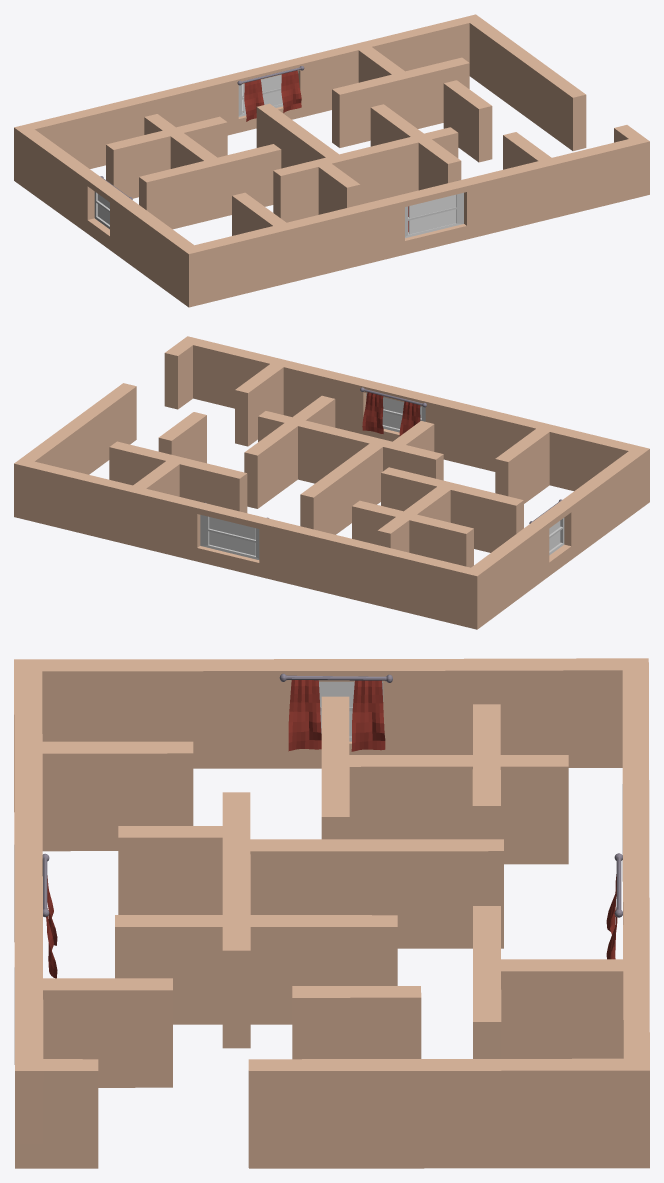
File: Level 9.fbx
The picture shows the model from 3 angles, top to bottom: view 1: azimuth 30°, elevation 25°; view 2: azimuth 150°, elevation 25°; view 3: azimuth 270°, elevation 25°; orthographic projection. The views are drawn at different scales.
Visible parts, largest first — view 1: group8_pasted__polySurface90_pasted__polySurface93, polySurface50, pasted__wind1, pasted__pasted__clowt1; view 2: group8_pasted__polySurface90_pasted__polySurface93, pasted__wind1, polySurface50, pasted__pasted__clowt1; view 3: group8_pasted__polySurface90_pasted__polySurface93, pasted__pasted__clowt1, pasted__wind1, polySurface50.
Boxes of the visible parts, x1,y1,x2,y2 form: group8_pasted__polySurface90_pasted__polySurface93: [14, 14, 649, 307]; polySurface50: [237, 66, 304, 121]; pasted__wind1: [405, 192, 463, 238]; pasted__pasted__clowt1: [94, 176, 132, 229]; group8_pasted__polySurface90_pasted__polySurface93: [14, 336, 649, 629]; pasted__wind1: [360, 387, 426, 435]; polySurface50: [200, 502, 268, 559]; pasted__pasted__clowt1: [529, 499, 564, 555]; group8_pasted__polySurface90_pasted__polySurface93: [14, 658, 649, 1168]; pasted__pasted__clowt1: [279, 673, 392, 751]; pasted__wind1: [42, 853, 57, 978]; polySurface50: [606, 853, 622, 959].
Bounding box in the file's own units: 154 × 16.93 × 99.98.
